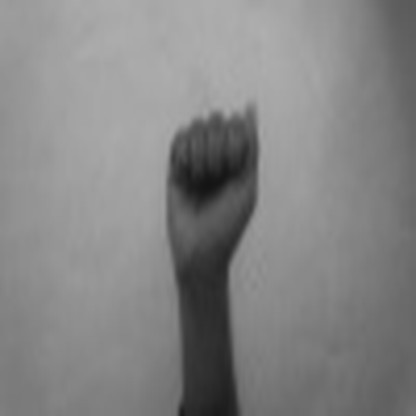a: (159, 87, 268, 270)
